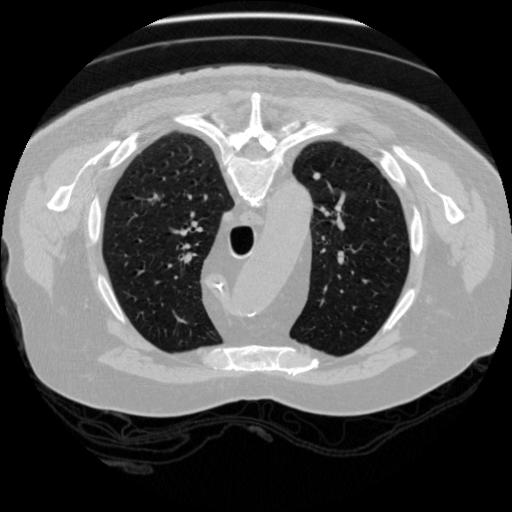nodule: (309, 171, 322, 184)
